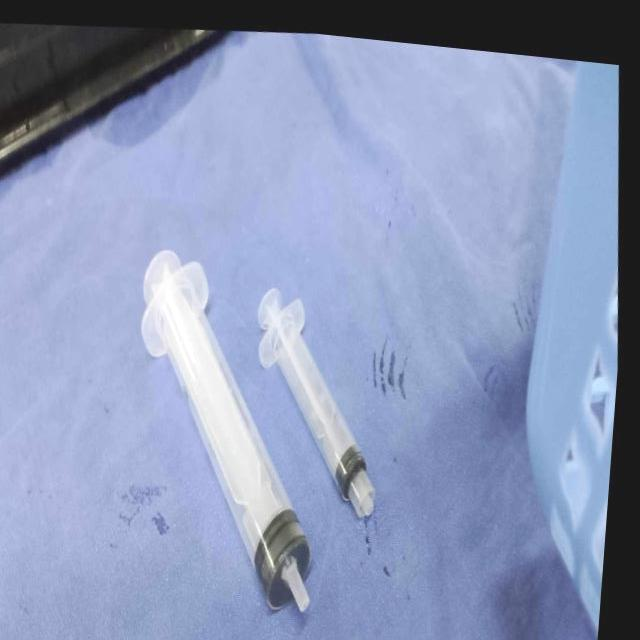General: (522, 59, 619, 634)
Pathological: (1, 26, 616, 639)
Sharps: (138, 247, 313, 612), (255, 286, 377, 518)
